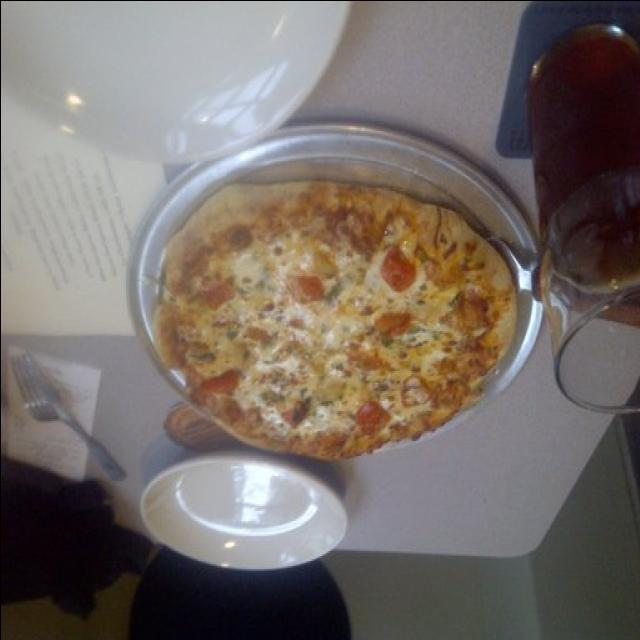pizza: (152, 177, 516, 463)
